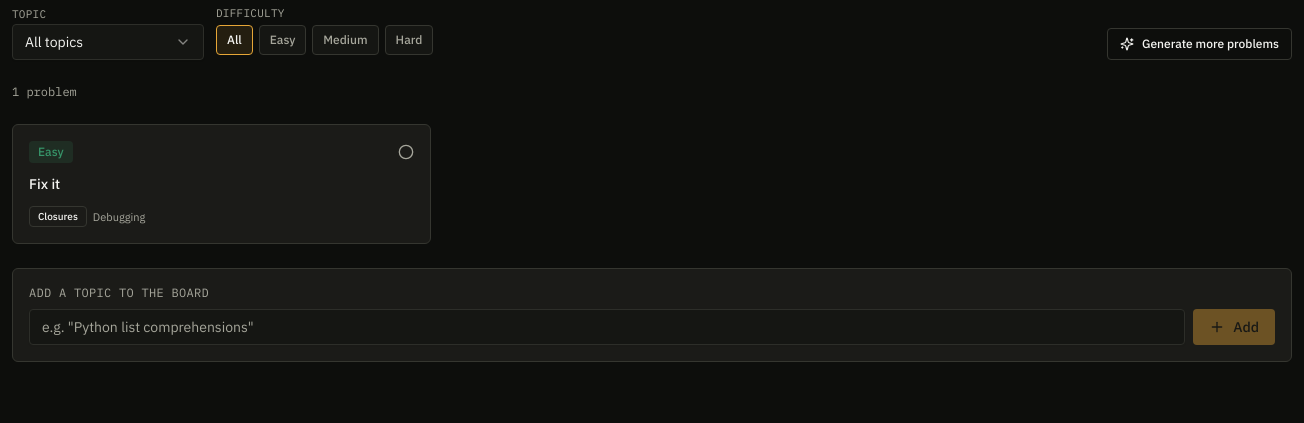
Scenario: PracticeBoard › falls back to the board's own message for an unclassified failure
What coordinates should you click on to do the following:
click the button "Generate more problems"
I would click on:
 (1199, 44)
Its box is [1107,28,1292,60].
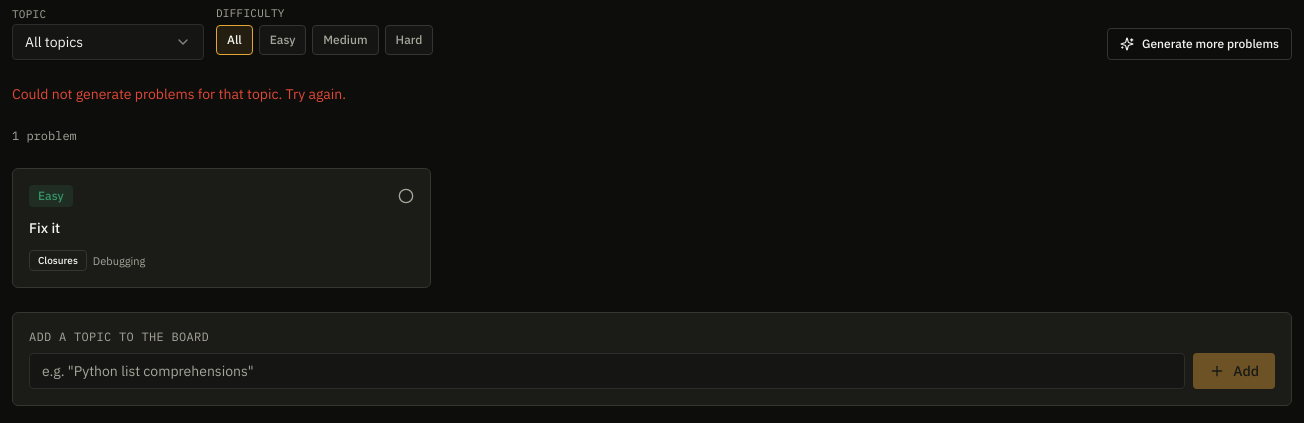
Expected: the message reads "Could not generate problems for that topic. Try again.", [12,85,346,103]
